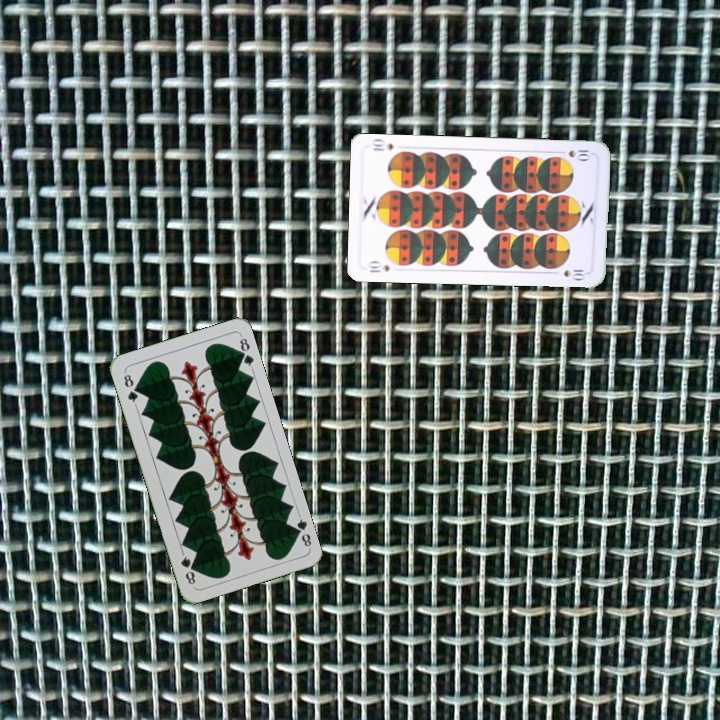G8: (289, 511, 314, 551), (120, 368, 141, 408)
S10: (554, 145, 593, 163), (365, 258, 392, 275)
